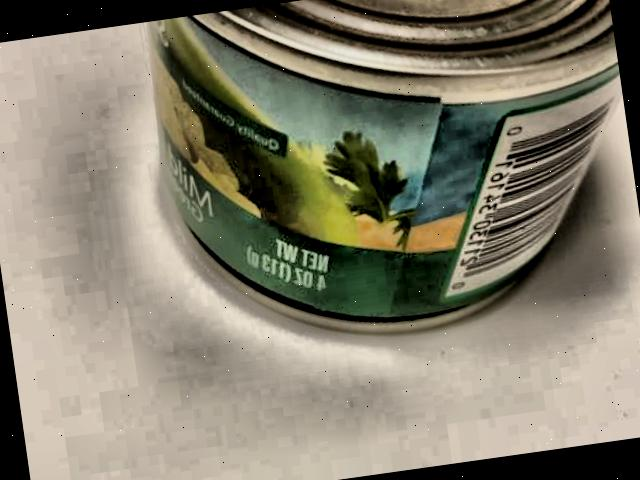Almennt: (139, 0, 640, 378)
